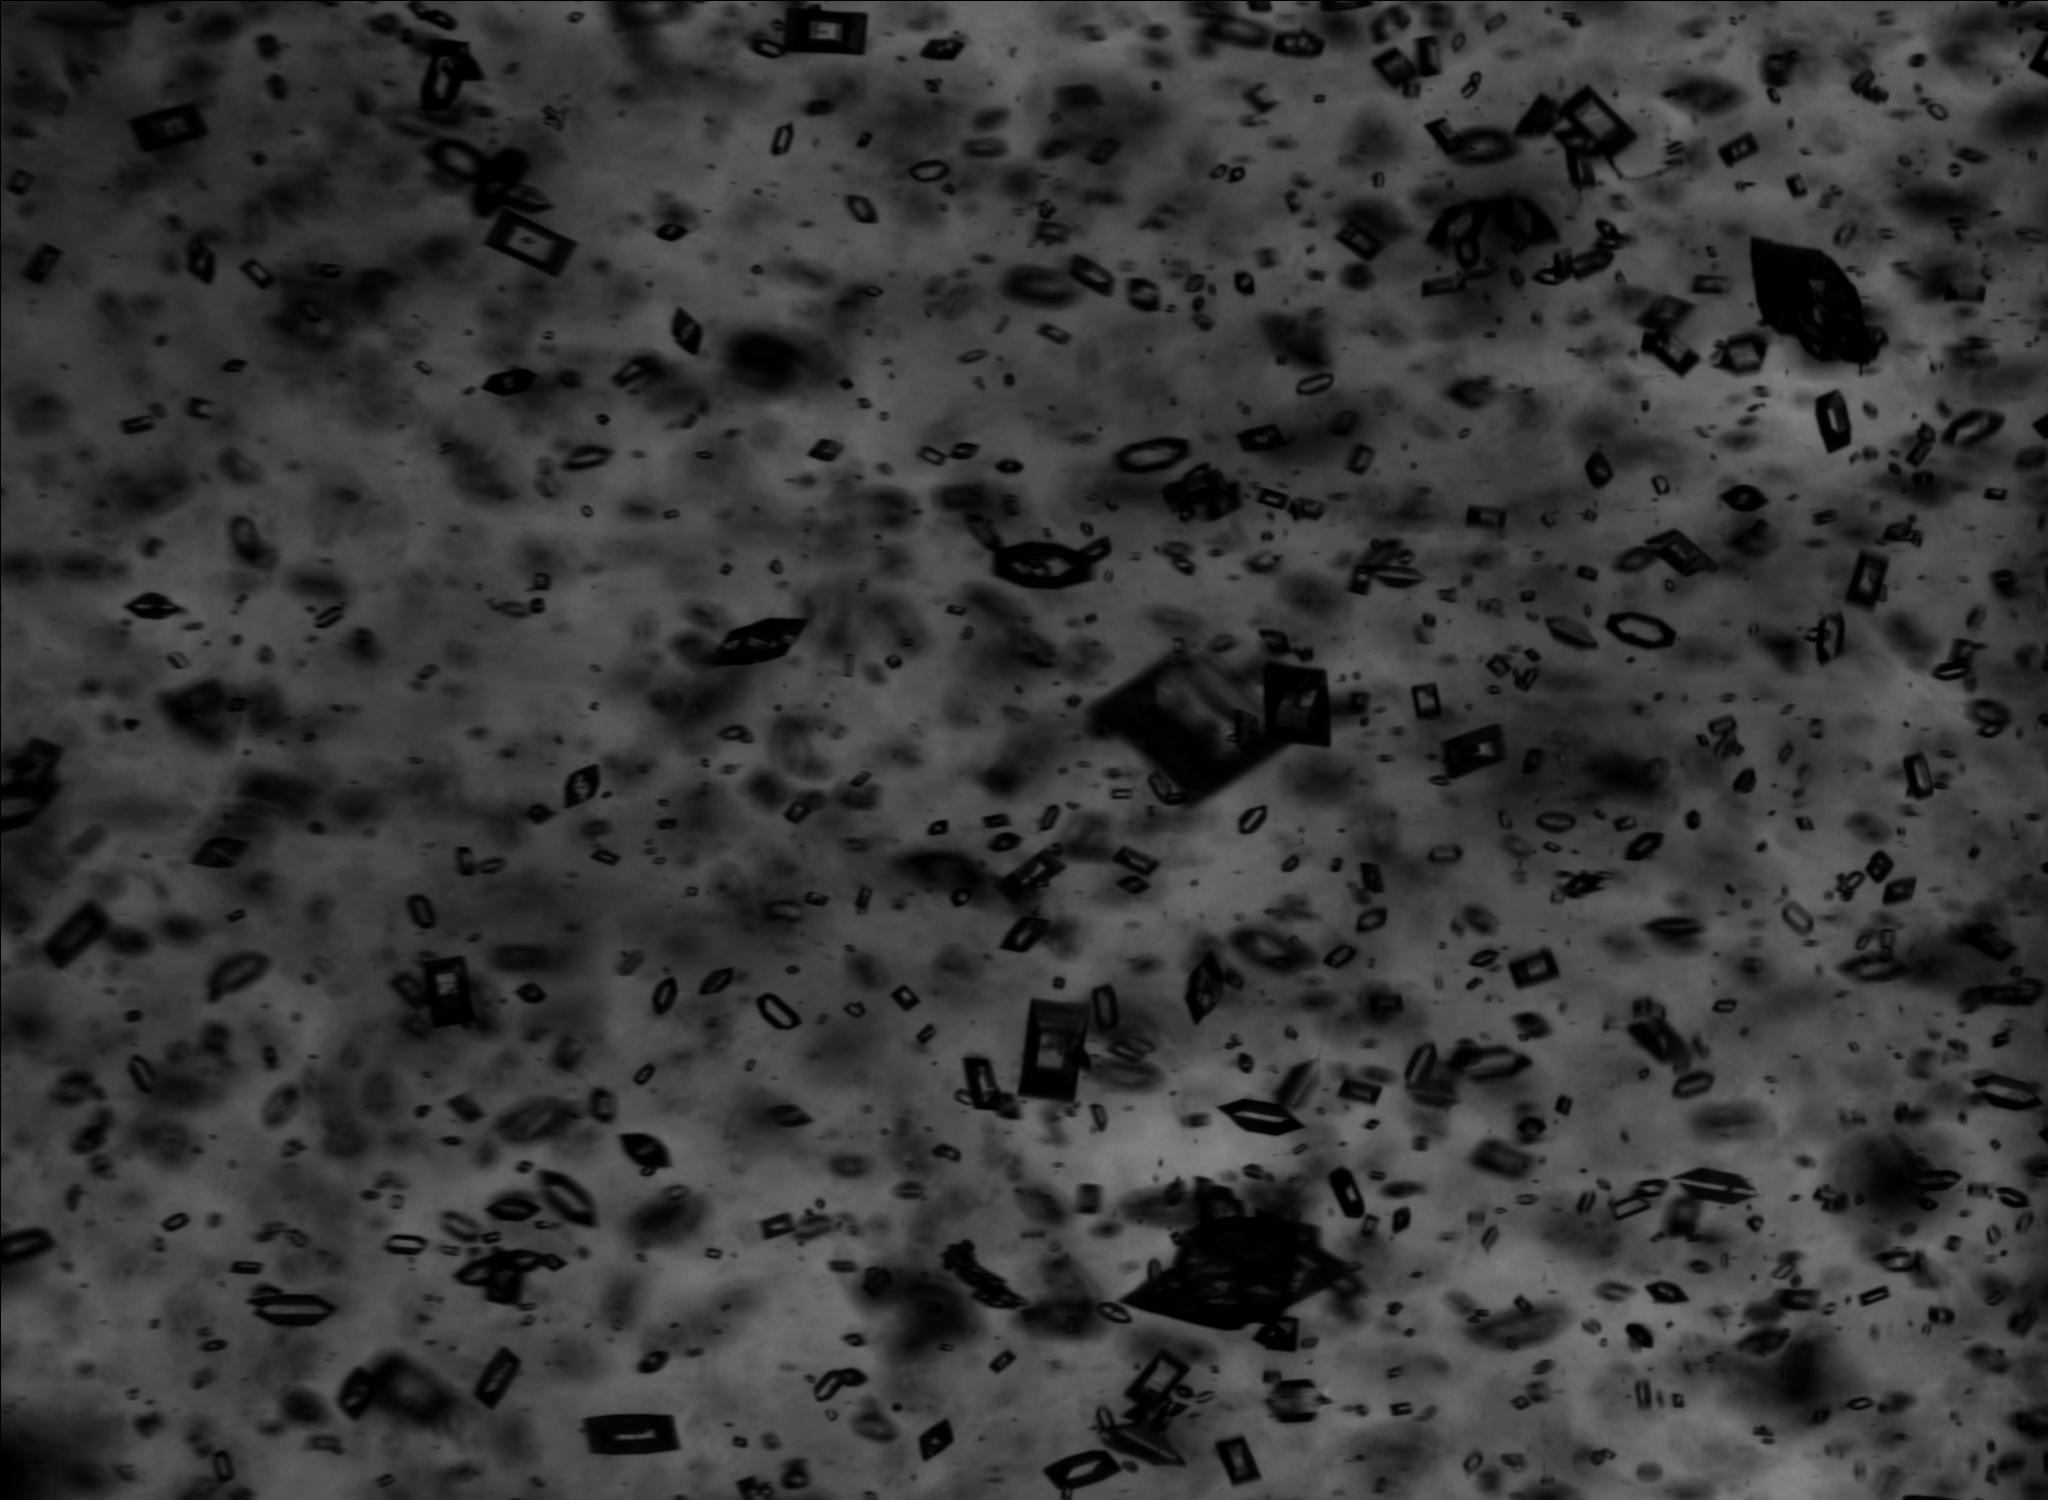crystal: (1121, 1179, 1350, 1330), (1081, 644, 1290, 805), (1749, 237, 1879, 364), (1512, 84, 1636, 186), (1426, 194, 1558, 267), (426, 137, 544, 215), (1018, 999, 1089, 1101), (455, 1247, 564, 1306), (941, 1239, 1030, 1311), (483, 207, 574, 275), (1531, 220, 1620, 285), (1263, 662, 1329, 746), (0, 738, 60, 830), (696, 617, 806, 666), (415, 35, 482, 111), (1627, 999, 1697, 1071), (1636, 294, 1698, 372), (1616, 528, 1716, 574), (994, 541, 1089, 587), (1123, 1347, 1191, 1411), (1161, 463, 1239, 519), (41, 902, 108, 966), (782, 5, 867, 54), (1425, 119, 1517, 164), (1043, 1449, 1123, 1500), (582, 1413, 679, 1454), (420, 956, 477, 1026), (1185, 951, 1242, 1021), (1347, 539, 1420, 593), (129, 102, 207, 151), (995, 846, 1064, 902), (246, 1284, 334, 1327), (1097, 1424, 1186, 1465), (1668, 1168, 1762, 1206), (1441, 724, 1504, 778), (962, 1056, 1018, 1117), (537, 1169, 596, 1225), (1447, 1045, 1533, 1082), (1264, 1373, 1328, 1422), (1220, 1098, 1301, 1134), (1970, 1071, 2042, 1110), (472, 1347, 520, 1406), (1115, 436, 1188, 472), (1875, 1245, 1937, 1287), (1604, 611, 1674, 647), (1714, 329, 1768, 374), (1471, 1137, 1531, 1177), (1846, 550, 1889, 606), (1930, 638, 1983, 682), (1213, 1435, 1259, 1484), (1814, 390, 1851, 452), (1941, 409, 2003, 445), (1274, 1058, 1318, 1109), (619, 1131, 671, 1174), (0, 1226, 54, 1268), (1902, 751, 1948, 799), (1506, 946, 1558, 988), (1959, 924, 2015, 962), (1697, 714, 1743, 759), (1336, 218, 1383, 261), (339, 1366, 375, 1420), (1371, 46, 1418, 87), (813, 1366, 867, 1401), (1328, 1166, 1364, 1217), (191, 834, 246, 867), (1069, 253, 1113, 294), (1336, 1069, 1388, 1104), (1808, 612, 1844, 662), (1000, 915, 1049, 951), (1402, 1040, 1439, 1090), (1544, 616, 1596, 647), (1968, 697, 2010, 736), (124, 592, 184, 619), (482, 366, 536, 396), (1253, 1314, 1297, 1350), (669, 307, 703, 355), (755, 993, 800, 1028), (1270, 27, 1325, 56), (563, 764, 599, 805), (22, 243, 60, 282), (917, 1419, 952, 1460), (1111, 845, 1159, 875), (1237, 423, 1290, 450), (184, 237, 216, 282), (390, 972, 428, 1008), (1091, 985, 1119, 1032), (482, 1198, 542, 1220), (1719, 132, 1759, 165), (1720, 484, 1767, 512), (1846, 958, 1905, 980), (1243, 81, 1282, 115), (919, 33, 965, 60), (563, 444, 611, 469), (1286, 495, 1331, 522), (1671, 1069, 1712, 1098), (383, 1231, 429, 1257), (1779, 899, 1813, 934), (1146, 771, 1183, 803), (127, 1055, 157, 1093), (237, 258, 275, 288), (1623, 830, 1663, 859), (649, 973, 677, 1013), (760, 897, 808, 921), (1910, 1169, 1964, 1190), (405, 894, 437, 929), (1410, 682, 1441, 719), (1584, 449, 1612, 487), (1534, 808, 1577, 834), (440, 1210, 479, 1239), (1644, 1279, 1689, 1303), (1422, 272, 1466, 296), (768, 1102, 813, 1126), (587, 1086, 617, 1121), (1075, 534, 1110, 565), (1464, 504, 1506, 530), (698, 967, 736, 994), (305, 600, 343, 627), (1417, 33, 1441, 76), (1611, 1193, 1650, 1218), (860, 1268, 894, 1298), (1086, 135, 1121, 164), (760, 1210, 795, 1239), (1941, 280, 1986, 302), (1631, 1378, 1663, 1408), (1883, 875, 1916, 903), (843, 194, 876, 223), (2013, 978, 2046, 1007), (1561, 873, 1603, 896), (1294, 371, 1332, 394), (1865, 849, 1894, 881), (0, 167, 33, 194), (906, 159, 949, 180), (1775, 1288, 1817, 1309), (1852, 1284, 1892, 1306), (1883, 522, 1919, 546), (1237, 803, 1267, 832), (208, 1449, 235, 1481), (1325, 409, 1358, 434), (808, 437, 843, 461), (1323, 943, 1358, 967), (1345, 444, 1374, 472), (1073, 1183, 1100, 1214), (1355, 905, 1387, 931), (1358, 861, 1383, 892), (770, 121, 793, 154), (1921, 1304, 1954, 1328), (1689, 274, 1730, 293), (1035, 321, 1070, 344), (1994, 1185, 2029, 1207), (1903, 441, 1932, 468), (989, 1347, 1019, 1373), (890, 985, 921, 1010), (1256, 487, 1288, 511), (639, 1349, 671, 1373), (119, 412, 156, 433), (1980, 985, 2016, 1005), (1107, 1040, 1143, 1061), (1811, 1185, 1849, 1204), (514, 981, 545, 1004), (1258, 630, 1290, 652), (1037, 803, 1062, 830), (1484, 652, 1511, 678), (1625, 1322, 1654, 1346), (782, 800, 811, 824), (944, 441, 979, 460), (1849, 68, 1875, 94), (1520, 748, 1544, 775), (1367, 994, 1401, 1013), (1635, 1177, 1668, 1196), (1097, 1303, 1131, 1322), (1115, 875, 1148, 894), (654, 223, 688, 240), (989, 832, 1021, 851), (1784, 170, 1806, 197), (1732, 765, 1754, 792), (917, 445, 946, 466), (425, 10, 455, 29), (162, 1210, 189, 1231), (229, 1258, 264, 1274), (720, 724, 752, 741), (588, 848, 620, 865), (1484, 11, 1507, 33), (1515, 666, 1538, 690), (914, 1021, 937, 1045), (299, 299, 323, 321), (1515, 1117, 1546, 1134), (186, 396, 211, 417), (1358, 1214, 1379, 1239), (1461, 72, 1480, 99), (932, 1142, 959, 1161), (755, 38, 782, 57), (1234, 270, 1255, 294), (1391, 1206, 1410, 1231), (1158, 1400, 1188, 1416), (1428, 846, 1461, 861), (1091, 1104, 1108, 1131), (1576, 1190, 1596, 1212), (1170, 555, 1193, 576), (951, 884, 972, 907), (634, 1063, 655, 1085), (1879, 929, 1894, 961), (1480, 1223, 1499, 1247), (1770, 1260, 1794, 1279), (959, 347, 987, 363), (456, 846, 472, 875), (1468, 948, 1493, 966), (219, 358, 250, 372), (854, 886, 871, 910), (2015, 1210, 2032, 1234), (1096, 1405, 1113, 1428), (167, 651, 191, 668), (1813, 507, 1838, 523), (1285, 189, 1301, 215), (1916, 422, 1935, 442), (1650, 474, 1670, 495), (925, 818, 948, 835), (1126, 285, 1148, 302), (1843, 872, 1865, 889), (1846, 1395, 1873, 1409), (1612, 814, 1636, 830), (1574, 565, 1598, 581), (983, 813, 1008, 827), (1185, 274, 1204, 293), (995, 458, 1024, 471), (803, 891, 828, 905), (318, 262, 343, 277), (1512, 1295, 1533, 1312), (849, 770, 870, 787), (1806, 717, 1822, 740), (1916, 1196, 1940, 1210), (1282, 853, 1301, 870), (1553, 1096, 1571, 1115), (1927, 103, 1948, 119), (1507, 264, 1523, 285), (1464, 1451, 1480, 1471), (1242, 1163, 1263, 1179), (1038, 197, 1054, 218), (477, 859, 502, 872), (202, 1338, 227, 1350), (1965, 1183, 1988, 1198), (843, 1002, 865, 1016), (1992, 1031, 2010, 1048), (1945, 1234, 1962, 1252), (854, 129, 871, 146), (1983, 487, 2007, 499), (1746, 1215, 1765, 1231), (1450, 32, 1466, 51), (1539, 509, 1555, 528), (1911, 471, 1932, 485), (1986, 1223, 2000, 1244), (480, 1230, 501, 1244), (226, 908, 246, 923), (1390, 1401, 1412, 1414), (1193, 1390, 1215, 1403), (944, 603, 967, 616), (843, 654, 855, 676), (1582, 506, 1598, 523), (1523, 646, 1541, 662), (1385, 1300, 1402, 1315), (227, 697, 246, 711), (1239, 1051, 1251, 1072), (415, 358, 431, 374), (1767, 86, 1781, 103), (1401, 83, 1418, 97), (534, 573, 549, 590), (844, 1331, 862, 1346), (1712, 999, 1735, 1010), (1795, 816, 1814, 829), (1986, 1290, 2002, 1304), (1104, 496, 1119, 511), (1511, 1395, 1528, 1408), (1387, 1365, 1404, 1378), (1175, 1385, 1193, 1398), (1111, 787, 1131, 799), (1520, 589, 1534, 603), (1229, 165, 1243, 180), (529, 598, 544, 612), (1856, 934, 1868, 950), (838, 375, 854, 388), (657, 818, 677, 827), (1687, 810, 1698, 827), (730, 1435, 747, 1446), (887, 654, 902, 666), (719, 562, 731, 576), (768, 558, 781, 573), (1544, 841, 1560, 853), (704, 1247, 720, 1258), (863, 283, 879, 294), (663, 507, 679, 519), (1899, 153, 1911, 165), (1372, 172, 1383, 186), (518, 1160, 533, 1171), (938, 1343, 954, 1352), (1887, 463, 1900, 474), (1705, 243, 1716, 256), (1663, 579, 1674, 592), (744, 1058, 755, 1071), (695, 450, 712, 458), (1949, 162, 1959, 177), (1673, 1393, 1682, 1408), (1081, 522, 1092, 533), (582, 506, 593, 517), (1488, 684, 1501, 694), (1003, 372, 1013, 385), (785, 964, 798, 973), (900, 638, 914, 646), (652, 856, 666, 864), (1404, 1327, 1415, 1336), (1053, 977, 1062, 988), (687, 884, 696, 896), (1313, 94, 1326, 102), (1476, 1309, 1490, 1315), (658, 799, 669, 806), (1641, 399, 1647, 410)
